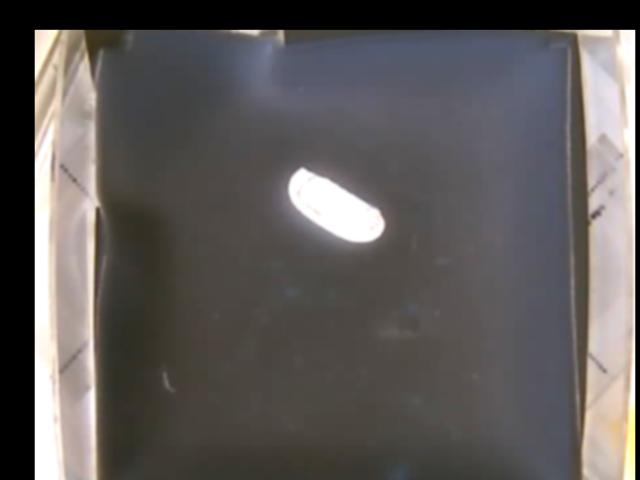Pebble: (289, 166, 382, 242)
